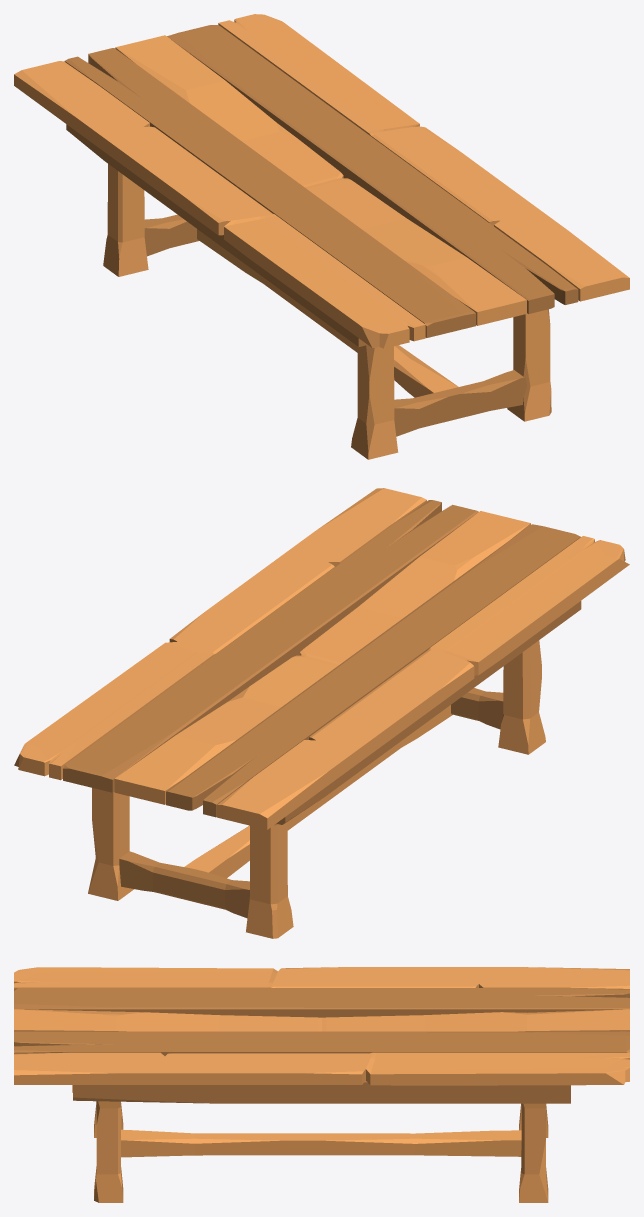
Rendered from Low Poly Table.fbx.
The picture shows the model from 3 angles, top to bottom: view 1: azimuth 30°, elevation 25°; view 2: azimuth 150°, elevation 25°; view 3: azimuth 270°, elevation 25°; orthographic projection. The views are drawn at different scales.
Parts seen in each view (by area): view 1: Board Cracked in Middle, Cube.028, Board Cracked at end, Board Cracked in Middle.002, Board Cracked at end.001, Board curved in middle; view 2: Board Cracked in Middle, Cube.028, Board Cracked at end, Board Cracked in Middle.002, Board Cracked at end.001, Board curved in middle; view 3: Cube.028, Board Cracked in Middle.002, Board Cracked at end.001, Board Cracked at end, Board Cracked in Middle, Board curved in middle.
Part boxes in pixels (box(x1,y1,x2,y2)): Board Cracked in Middle: box(14, 61, 425, 348); Cube.028: box(66, 124, 551, 459); Board Cracked at end: box(167, 25, 578, 313); Board Cracked in Middle.002: box(218, 14, 629, 301); Board Cracked at end.001: box(64, 48, 475, 337); Board curved in middle: box(115, 35, 526, 325); Board Cracked in Middle: box(217, 536, 629, 829); Cube.028: box(88, 601, 581, 938); Board Cracked at end: box(63, 500, 478, 792); Board Cracked in Middle.002: box(14, 488, 426, 780); Board Cracked at end.001: box(166, 524, 580, 817); Board curved in middle: box(114, 511, 530, 804); Cube.028: box(72, 1081, 570, 1202); Board Cracked in Middle.002: box(14, 1052, 629, 1085); Board Cracked at end.001: box(14, 988, 629, 1017); Board Cracked at end: box(14, 1031, 629, 1055); Board Cracked in Middle: box(14, 967, 629, 989); Board curved in middle: box(14, 1009, 629, 1031).
Bounding box in the file's own units: 134 × 84.38 × 331.
